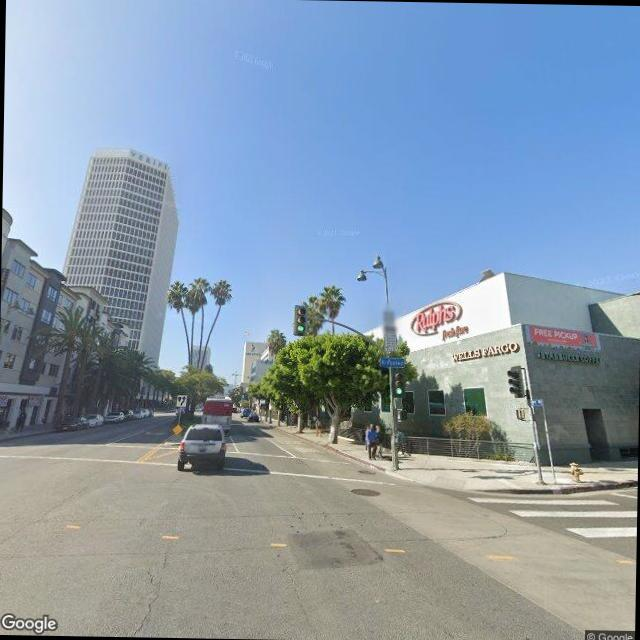pothole: (110, 552, 167, 636)
